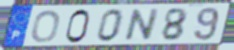0: (95, 7, 125, 43), (64, 8, 92, 44)
8: (160, 7, 190, 42)
9: (191, 6, 221, 42)
N: (122, 8, 162, 42)
O: (30, 9, 62, 43)
